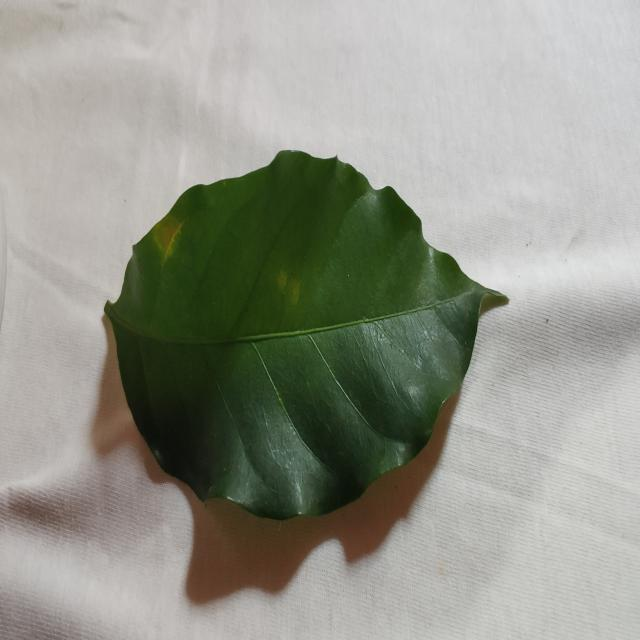Enfermedad-Roya: (102, 151, 507, 523)
